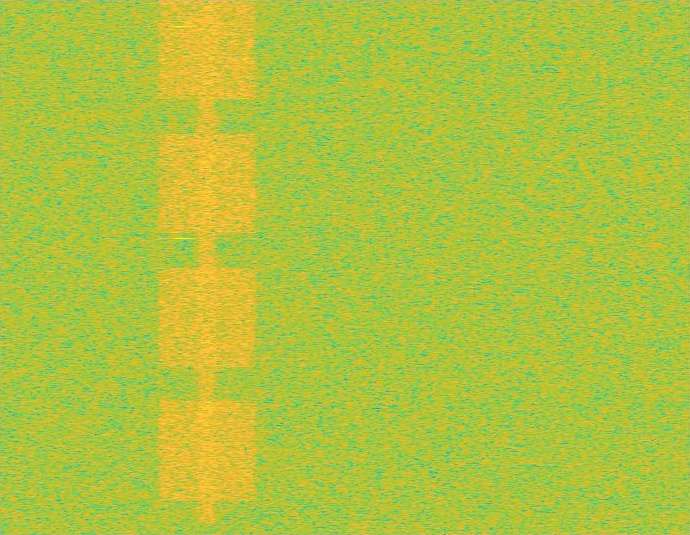5G: (156, 0, 259, 534)
DSSS: (196, 0, 219, 534)
Radar: (176, 0, 190, 534)
